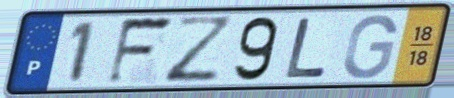1: (67, 20, 97, 84)
9: (231, 15, 280, 83)
F: (104, 14, 177, 88)
G: (341, 12, 400, 81)
L: (282, 16, 331, 80)
Z: (161, 14, 238, 86)
